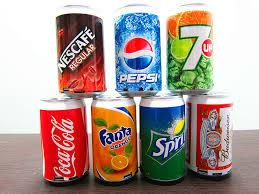Aluminum can: (36, 96, 90, 186), (55, 3, 106, 96), (135, 95, 189, 181), (186, 91, 235, 181), (170, 4, 220, 91), (114, 6, 164, 92), (92, 99, 138, 189)
